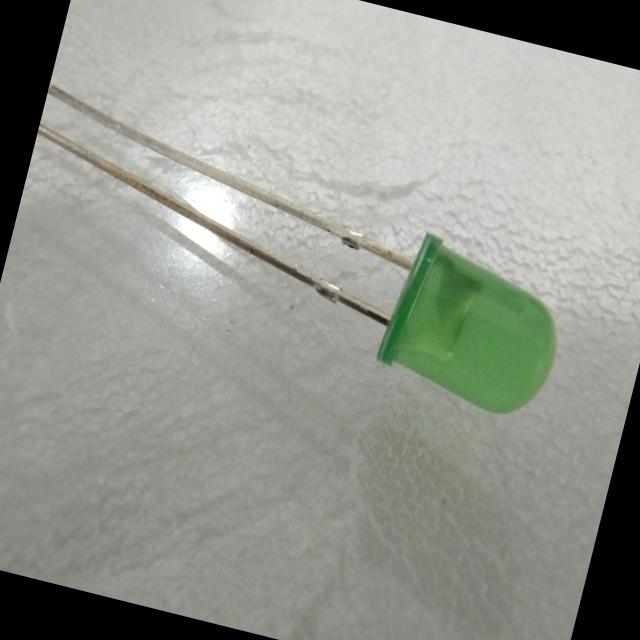green_led: (353, 206, 588, 454)
